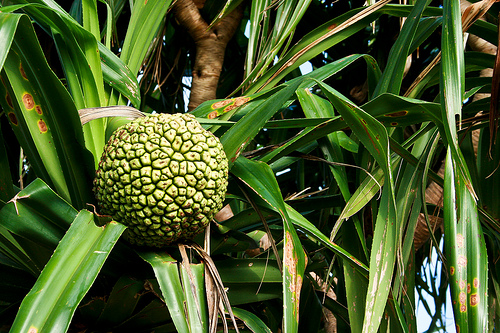jackfruit: (91, 110, 228, 247)
